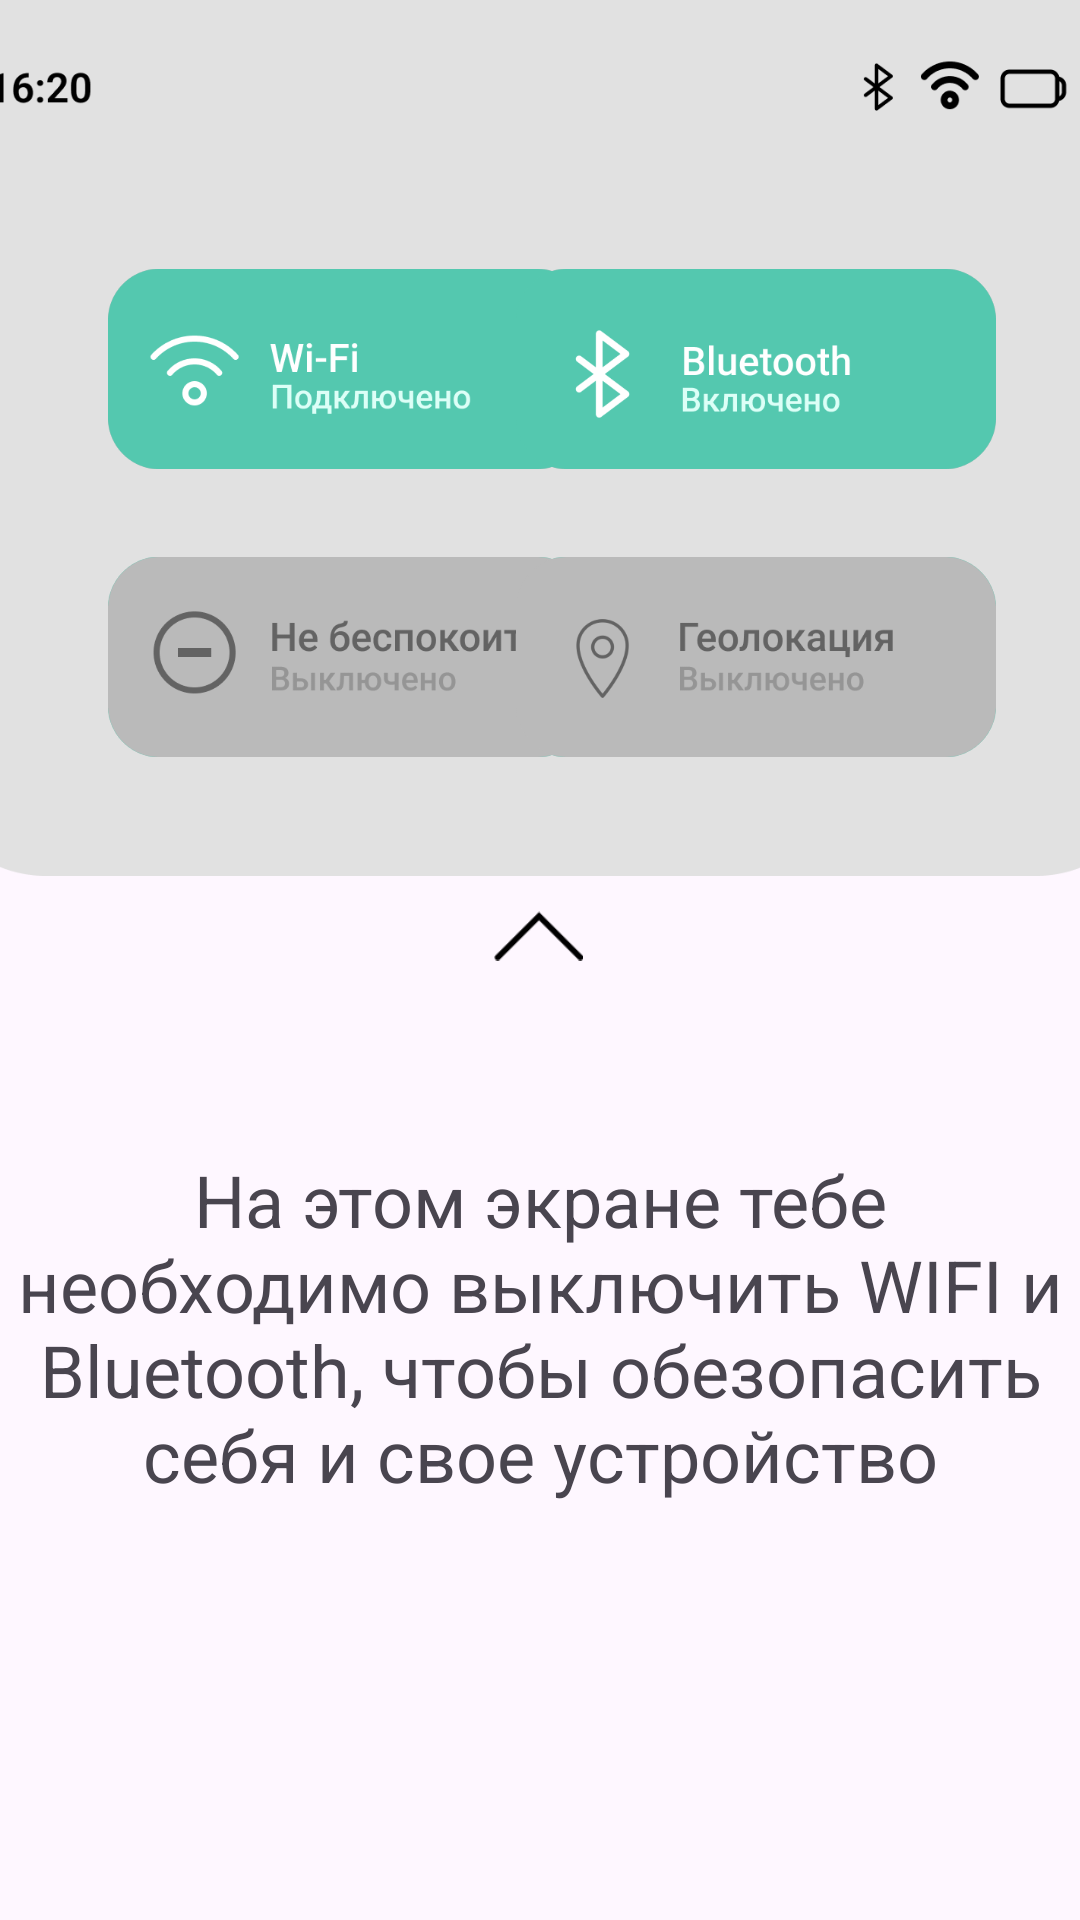

Named icons in this screenshot (1080 × 1920) and their bounding boxes, (x1, y1, x2, y2):
verxobr: (494, 911, 583, 961)
